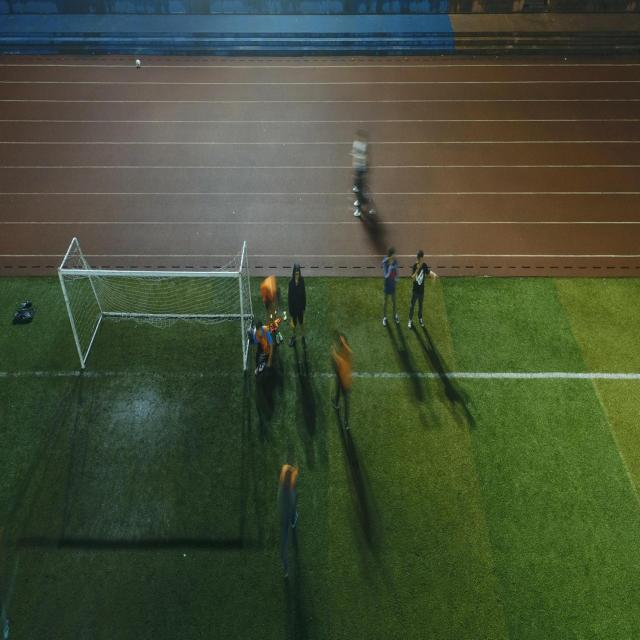person: (276, 459, 298, 579), (329, 328, 354, 431), (408, 250, 438, 328), (350, 129, 376, 217), (259, 275, 284, 345), (288, 262, 306, 348), (381, 246, 400, 326), (247, 318, 273, 376)
